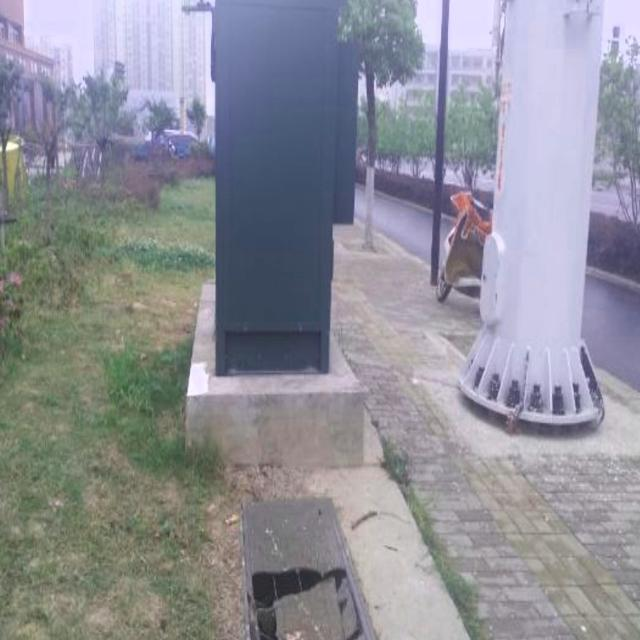broke: (239, 491, 382, 640)
